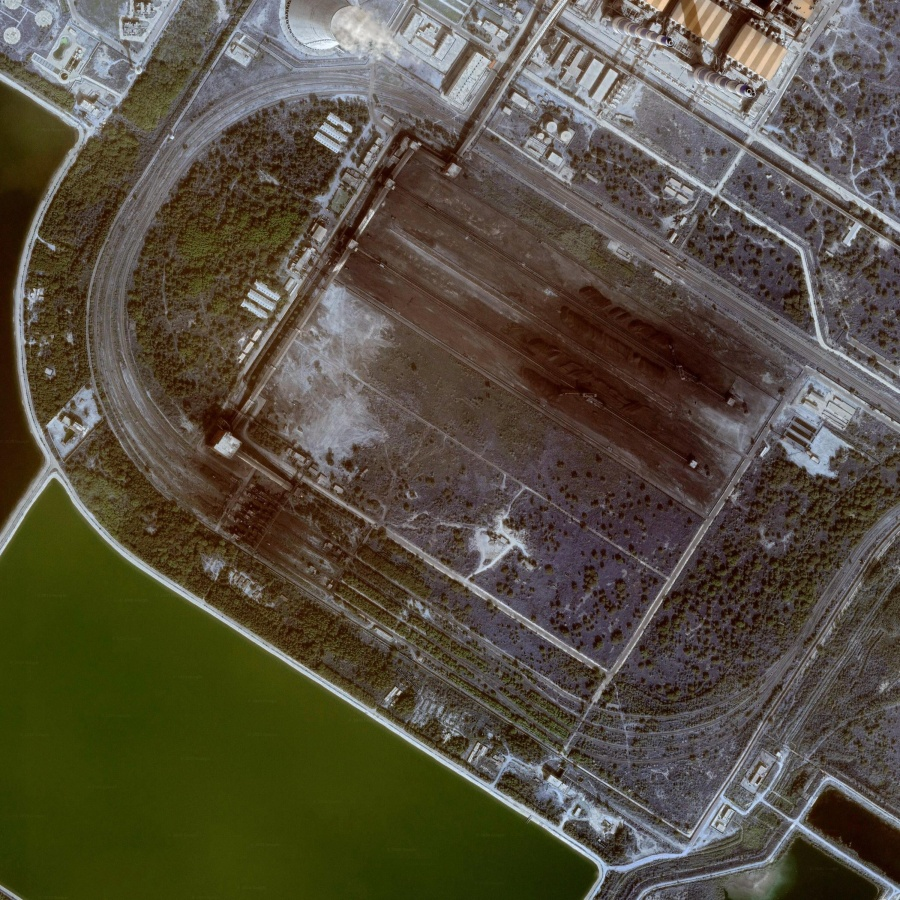PowerPlant: (320, 133, 794, 511)
